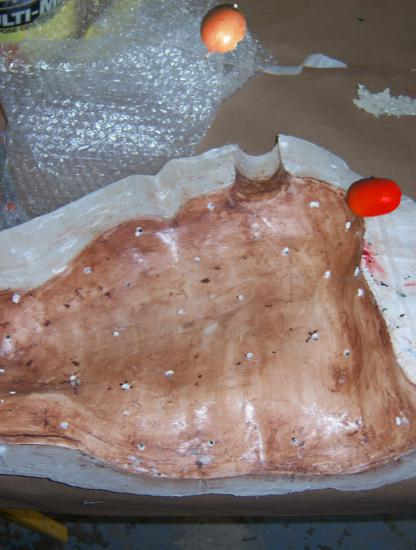Granadilla: (185, 0, 253, 68)
Kaki: (344, 167, 403, 226)
